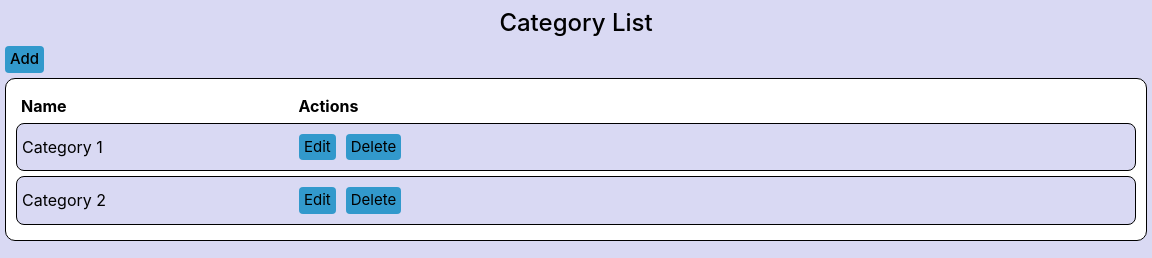
Test: CategoryPage › should handle category deletion
The width and height of the screenshot is (1152, 258).
Check: the text "Category 1" is shown, box [22, 137, 103, 157]
Click the button "Delete" in the row of "Category 1" at x=374, y=147, box [346, 134, 401, 160]
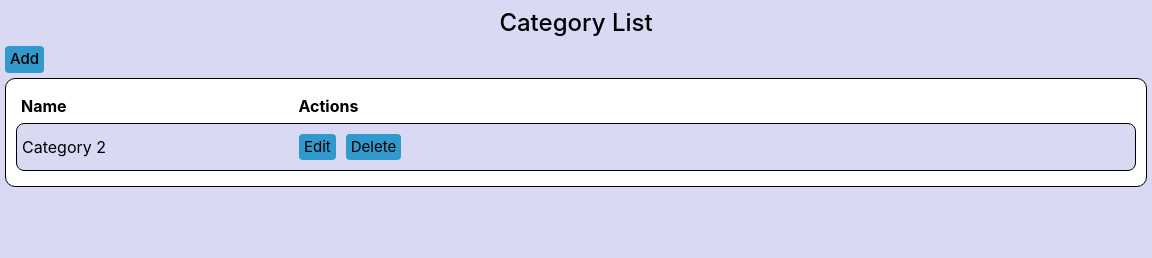
Check: the text "Category 1" is gone
